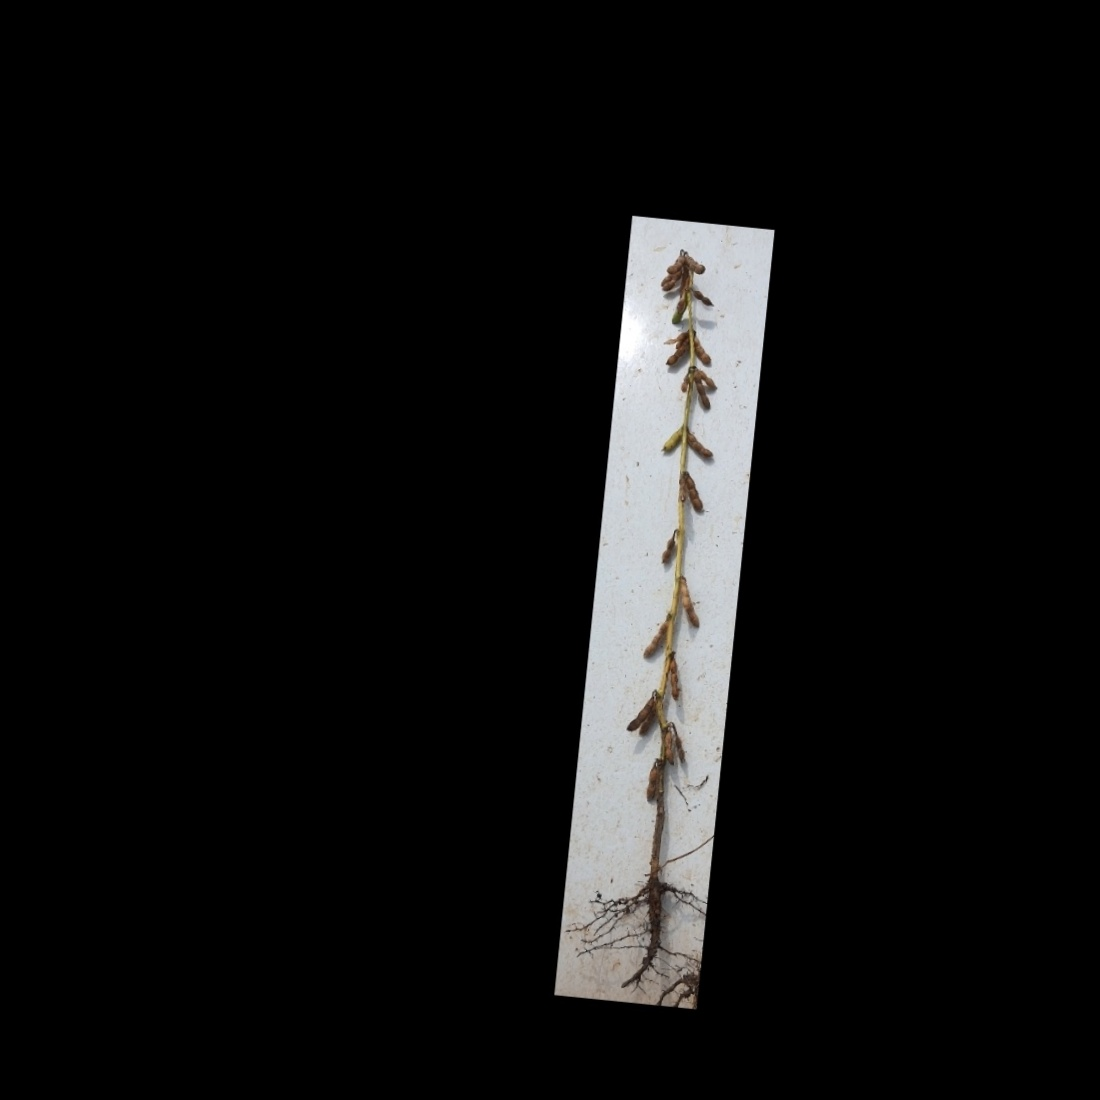pod: (673, 574, 705, 630), (680, 421, 718, 461), (640, 616, 668, 664), (678, 471, 708, 512), (658, 420, 685, 459), (685, 332, 716, 366), (663, 656, 684, 702), (658, 526, 679, 568), (641, 761, 661, 804), (686, 283, 717, 307), (669, 732, 690, 765), (660, 730, 678, 765), (678, 368, 691, 395)
soy: (580, 240, 755, 991)
